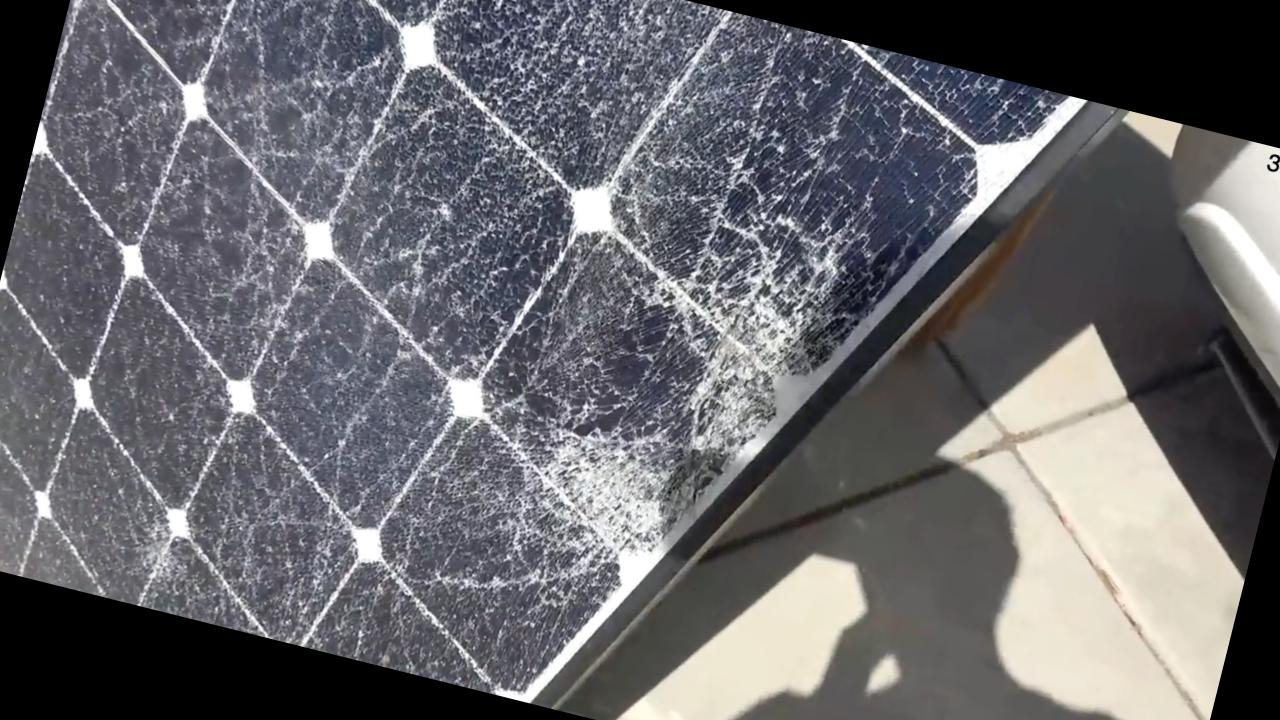Crack: (10, 0, 1048, 501), (617, 191, 838, 457), (498, 410, 691, 592)
